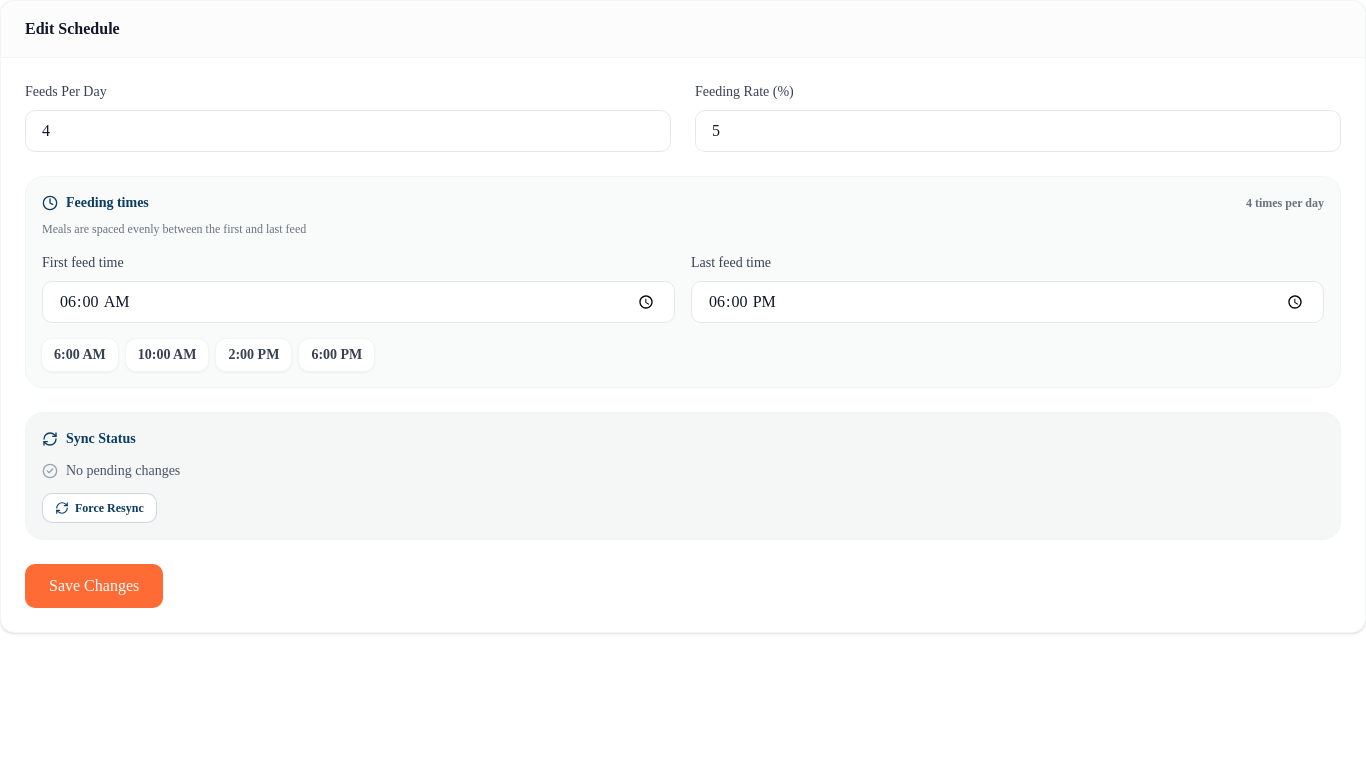
Test: ScheduleEditor feeding window validation (#763) › marks the draft as unsaved and arms the unload warning
Expected: the text "You have unsaved changes." is not shown
Replace the text in the number field labelled "Feeding Rate (%)" with "6" at (1018, 131), box [695,110,1341,152]
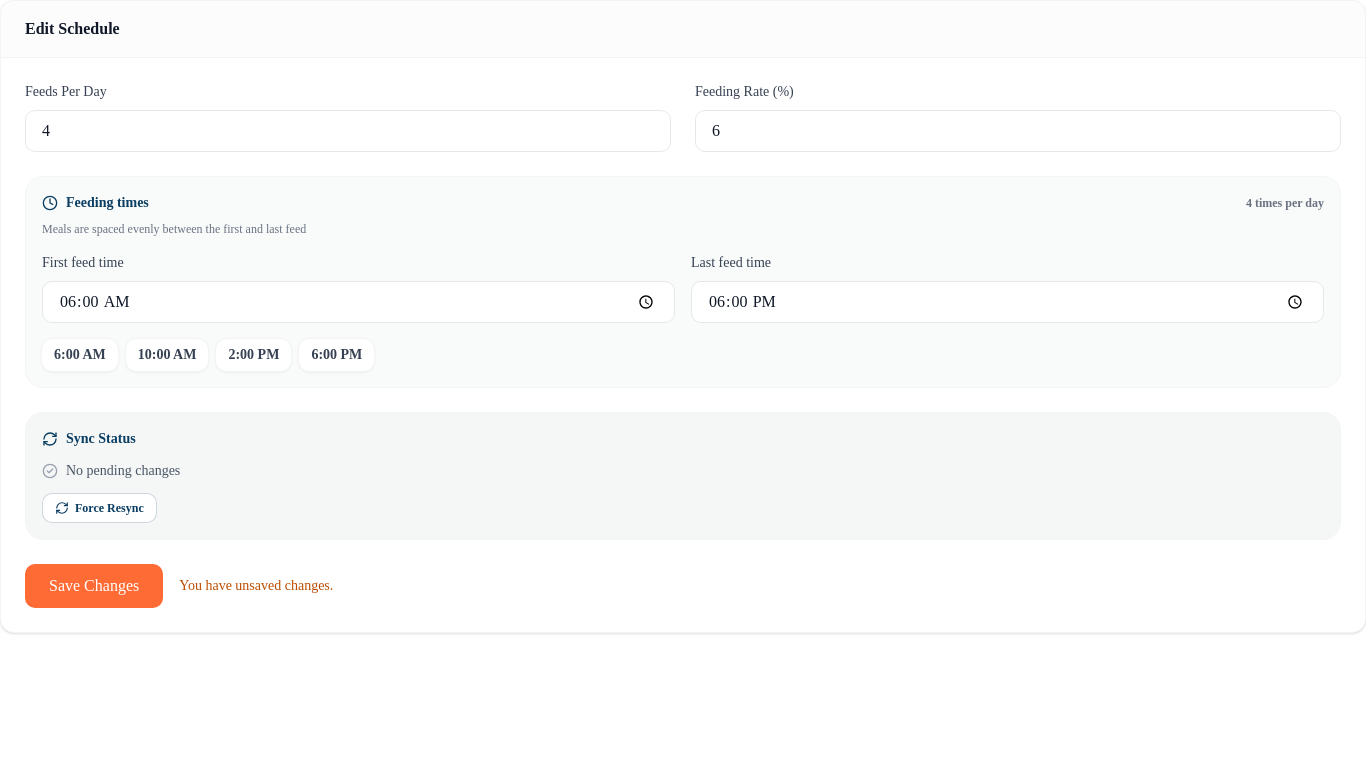
Now the text "You have unsaved changes." is shown, box [179,576,333,596]
